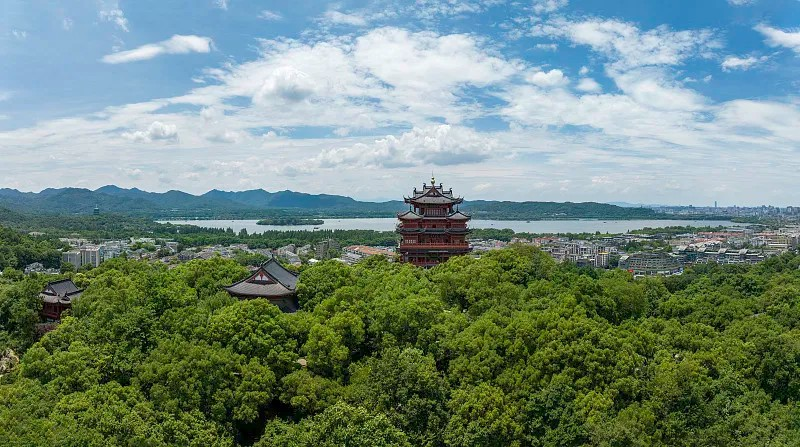Leifeng: (93, 203, 100, 217)
